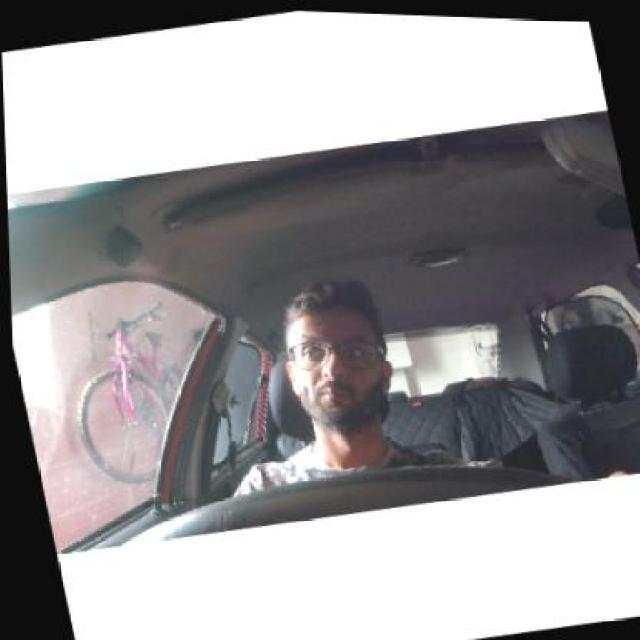person: (283, 269, 400, 440)
